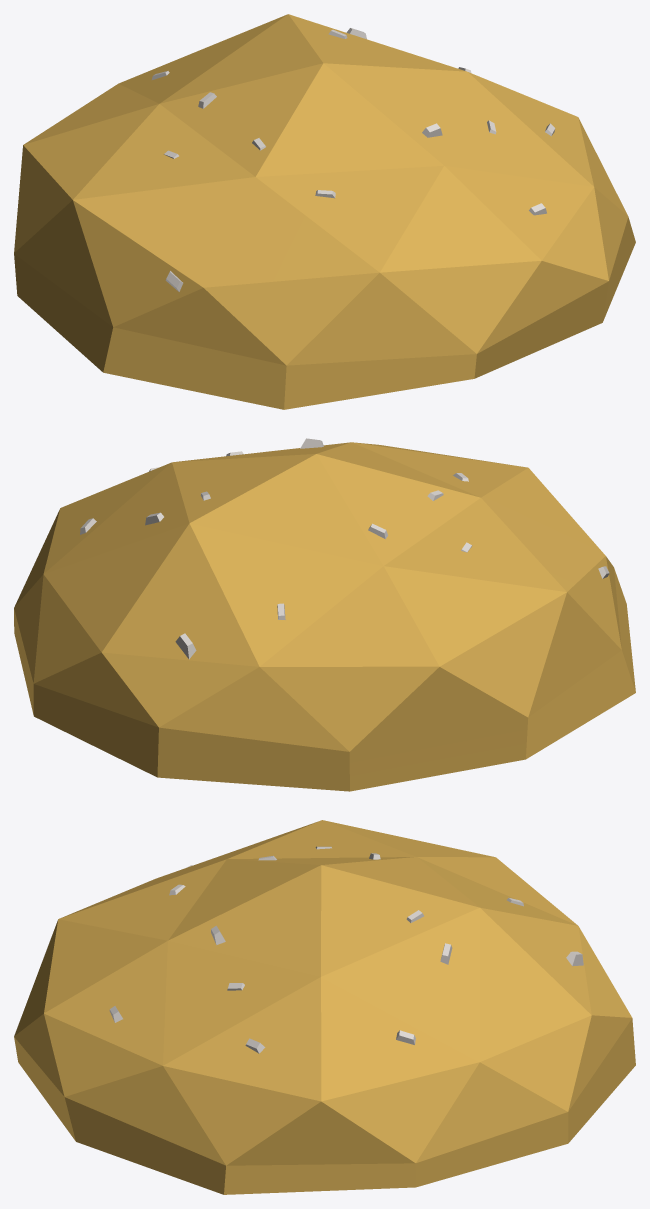
The model's file is UpperBread.fbx.
3 views of the same model, one above another, from view 1: azimuth 30°, elevation 25°; view 2: azimuth 150°, elevation 25°; view 3: azimuth 270°, elevation 25° (orthographic). The views are drawn at different scales.
Visible parts, largest first — view 1: Burger_Bread; view 2: Burger_Bread; view 3: Burger_Bread.
Boxes of the visible parts, x1,y1,x2,y2 form: Burger_Bread: (14,14,635,409); Burger_Bread: (14,438,635,791); Burger_Bread: (14,820,635,1194).
Size of the model in its own units: 41.27 by 15.41 by 42.48.
